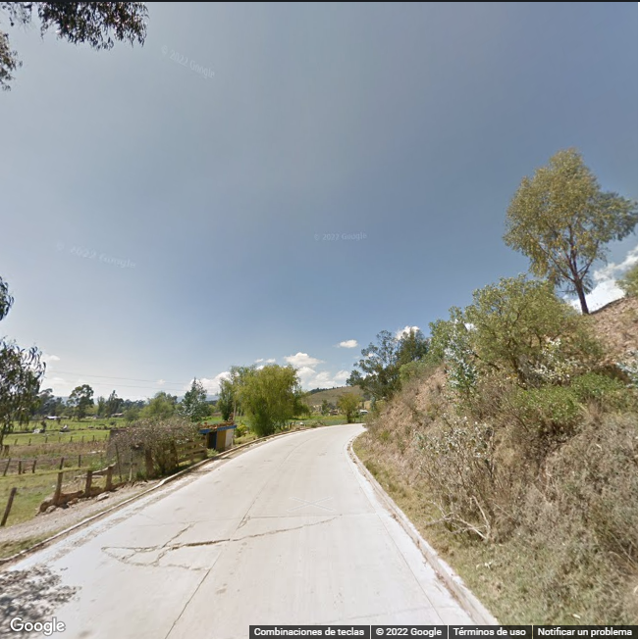D00: (171, 559, 214, 638), (159, 517, 194, 548)
D10: (196, 517, 342, 547), (96, 545, 154, 554)
